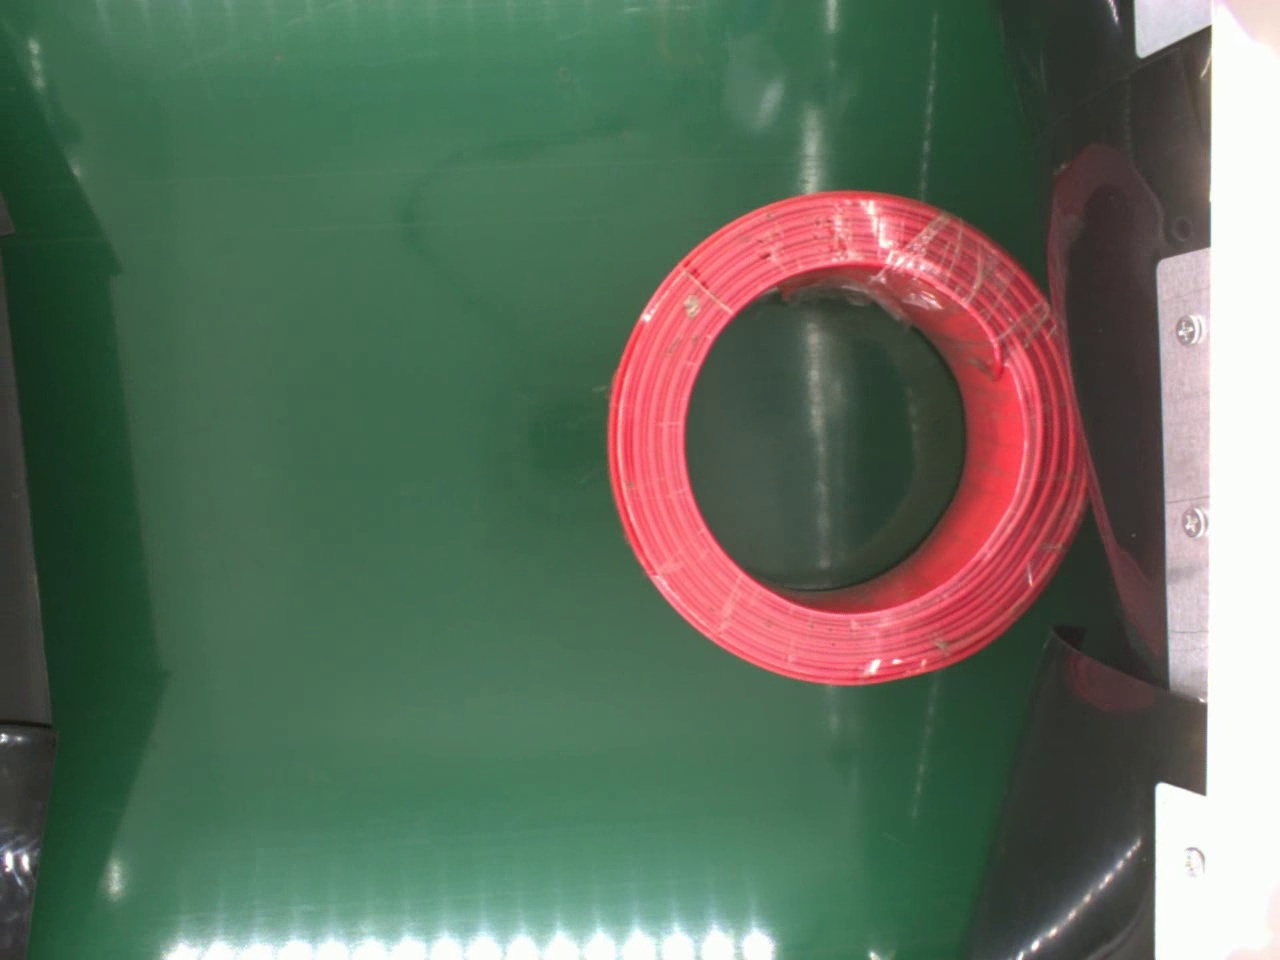red: (597, 186, 1092, 692)
